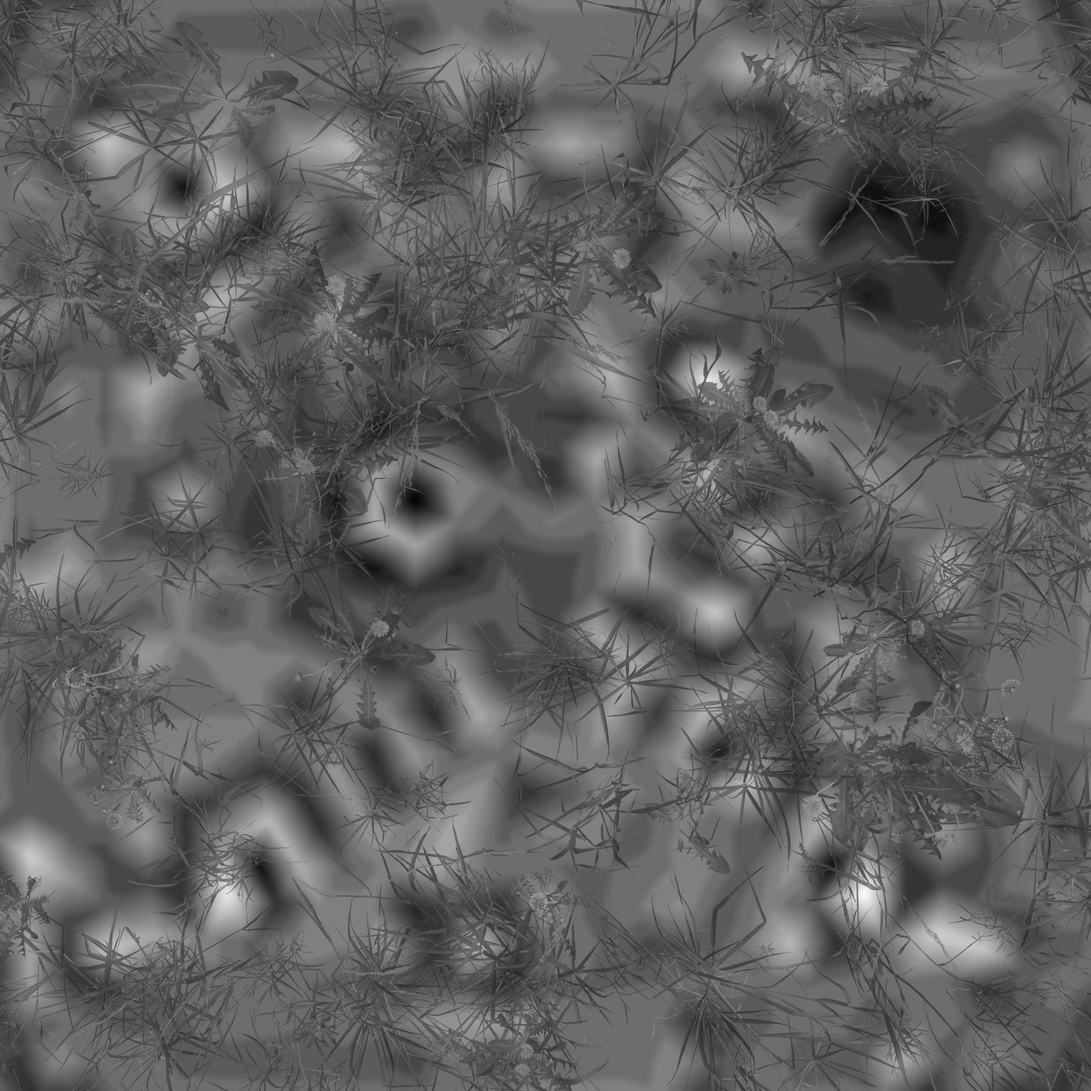landmine: (813, 156, 976, 302), (333, 433, 491, 580)
